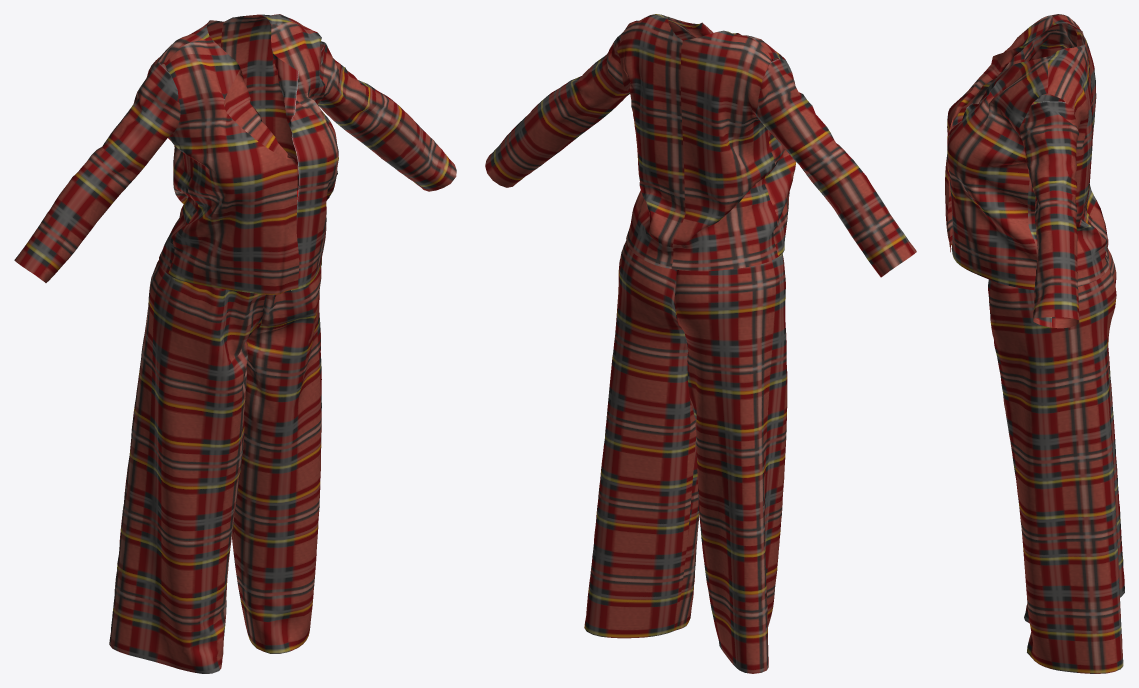
The model's file is PijamaPuesta.obj.
The picture shows the model from 3 angles, left to right: view 1: azimuth 30°, elevation 25°; view 2: azimuth 150°, elevation 25°; view 3: azimuth 270°, elevation 25°; orthographic projection. The views are drawn at different scales.
Size of the model in its own units: 1.06 by 1.47 by 0.3975.
